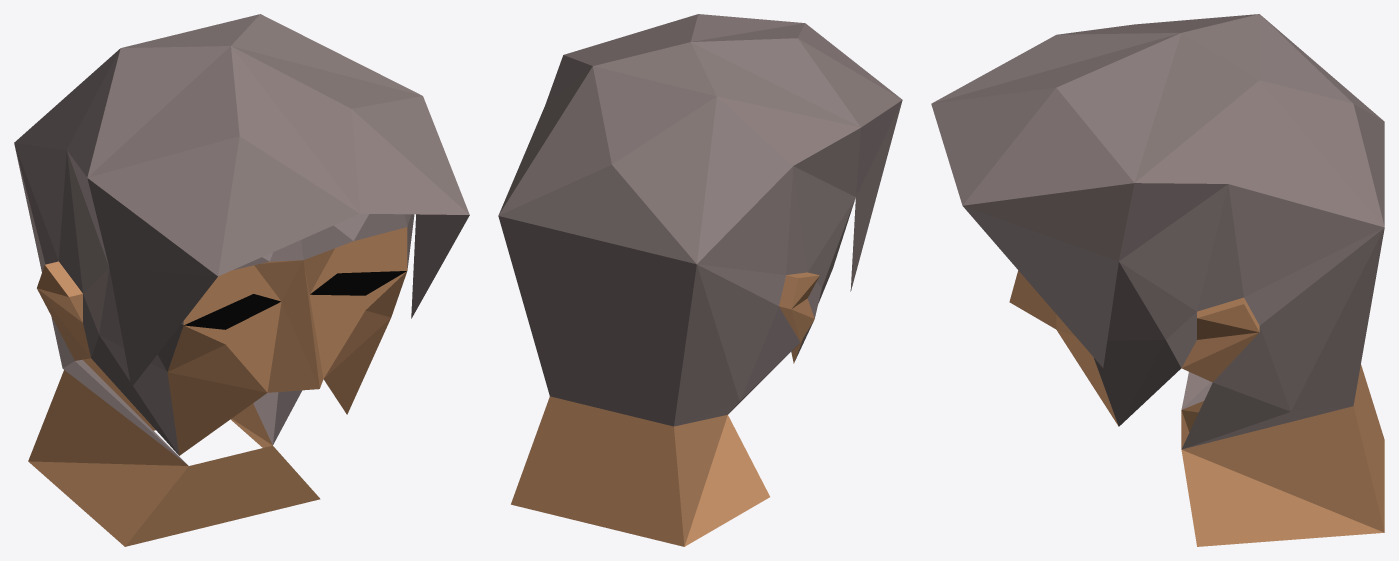
The model's file is model_232_npc.obj.
3 views of the same model, side by side, from view 1: azimuth 30°, elevation 25°; view 2: azimuth 150°, elevation 25°; view 3: azimuth 270°, elevation 25° (orthographic). The views are drawn at different scales.
Parts seen in each view (by area): view 1: 232; view 2: 232; view 3: 232.
Boxes of the visible parts, <box> form: 232: <box>14,14,469,546</box>; 232: <box>498,14,902,546</box>; 232: <box>931,14,1384,546</box>.
Bounding box in the file's own units: 24 × 33 × 29.
